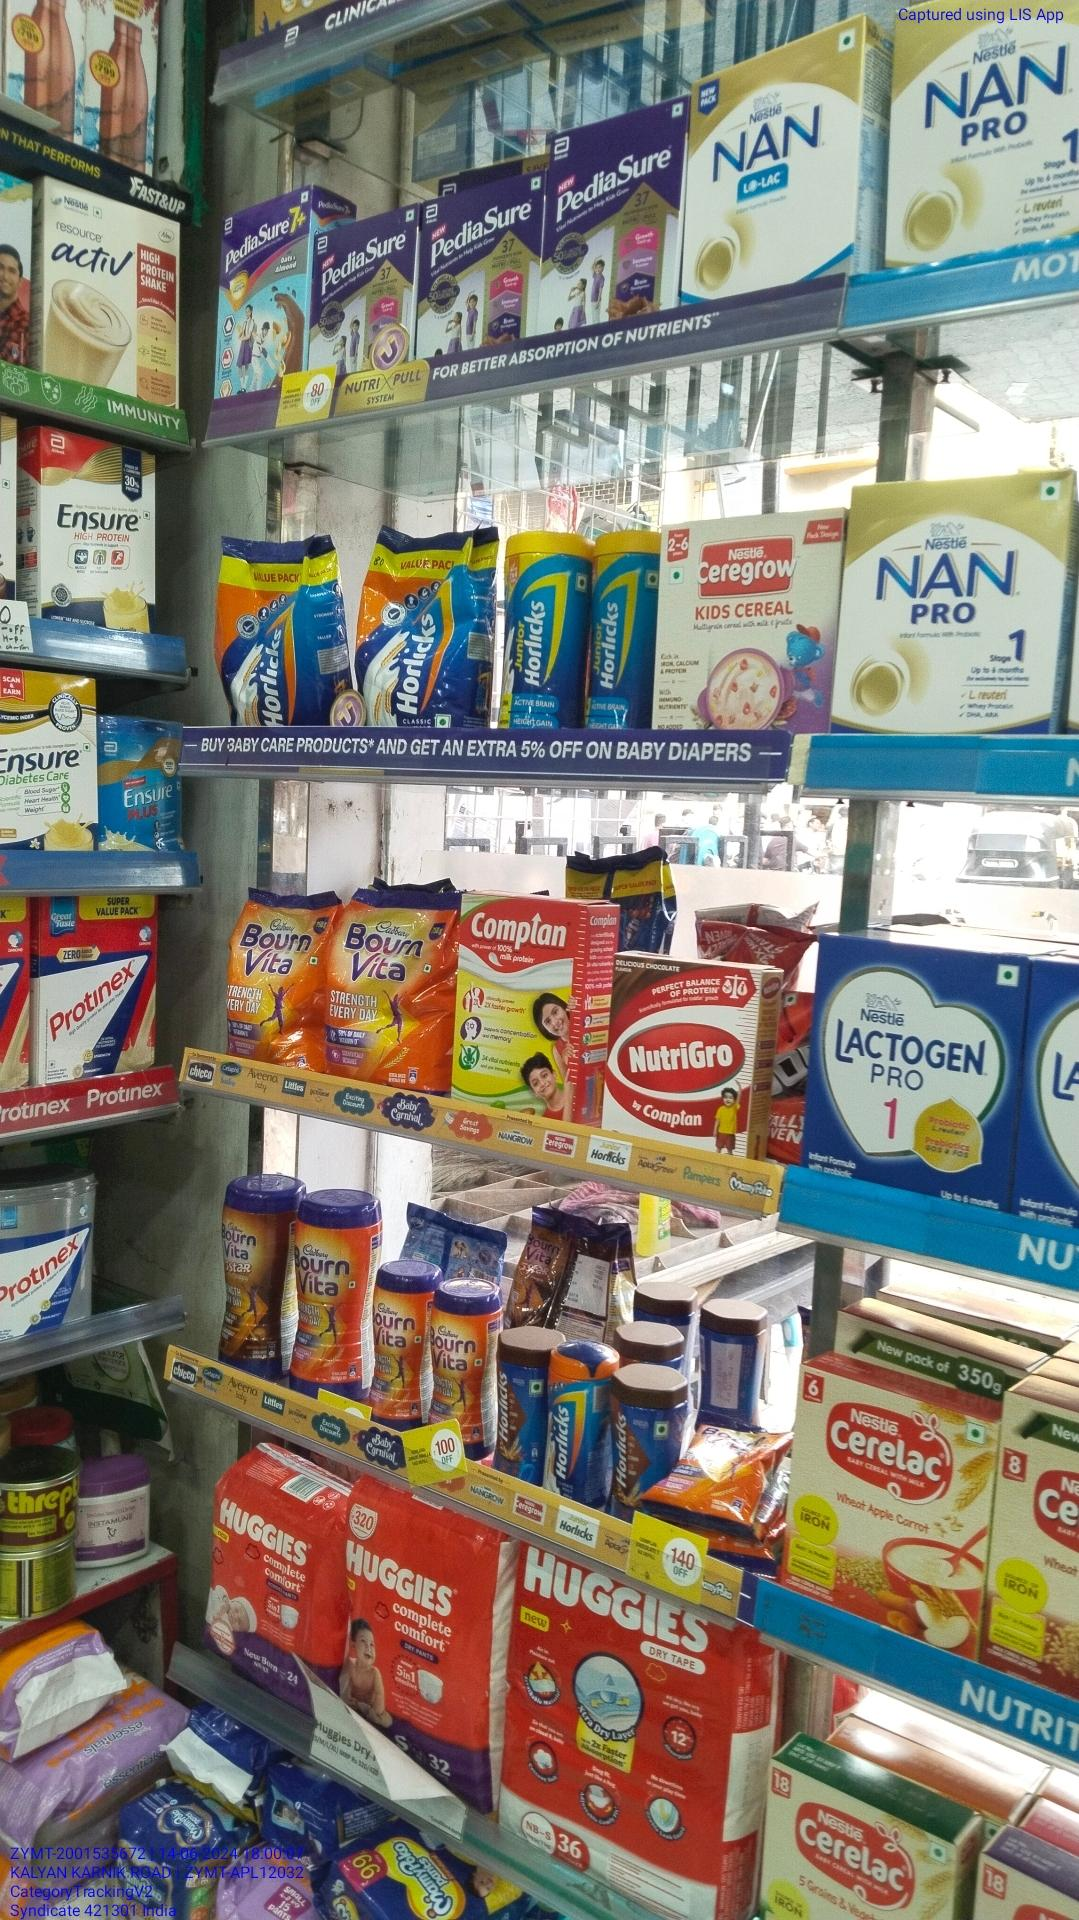BOURN_VITA_200_G_JAR: (430, 1278, 487, 1448), (373, 1261, 429, 1428)
BOURN_VITA_500_G_JAR: (292, 1184, 363, 1398)
BOURN_VITA_750_G_POUCH: (335, 890, 456, 1093), (233, 889, 327, 1072)
BOURN_VITA_FIVE_STAR_MAGIC_500_G_JAR: (222, 1170, 288, 1373)
COMPLAN_PISTA_BADAM_500_GMS_PACK: (459, 894, 579, 1109)
HORLICKS_JUNIOR_VANILLA_500_GM_JAR: (503, 531, 584, 733), (590, 526, 650, 735)
HORLICK_CHOCOLATE_200_G_JAR: (613, 1366, 670, 1516), (495, 1329, 545, 1476)
HORLICK_CLASSIC_MALT_750_G_POUCH: (356, 529, 488, 731), (216, 535, 340, 728)
PEDIASURE_CHOCOLATE_500_G_PACK: (426, 191, 538, 355), (314, 220, 419, 380)
PROTINEX_ORIGINAL_400_G_JAR: (0, 1174, 91, 1333)
